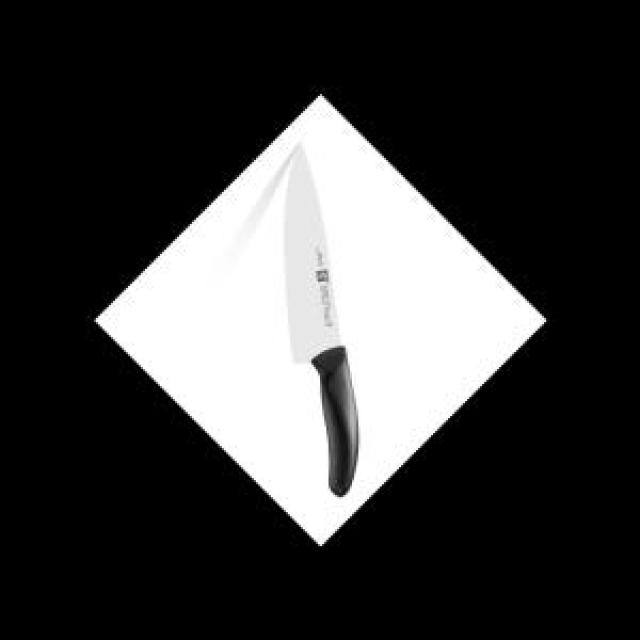knife: (284, 137, 362, 500)
